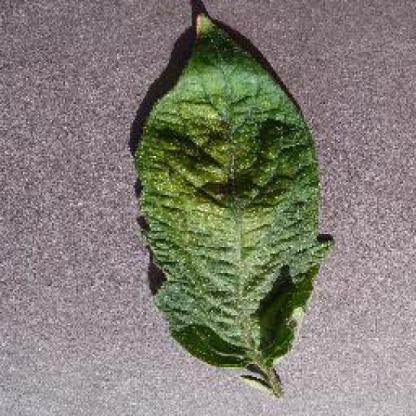Tomato_Spider_Mites: (136, 15, 332, 365)
